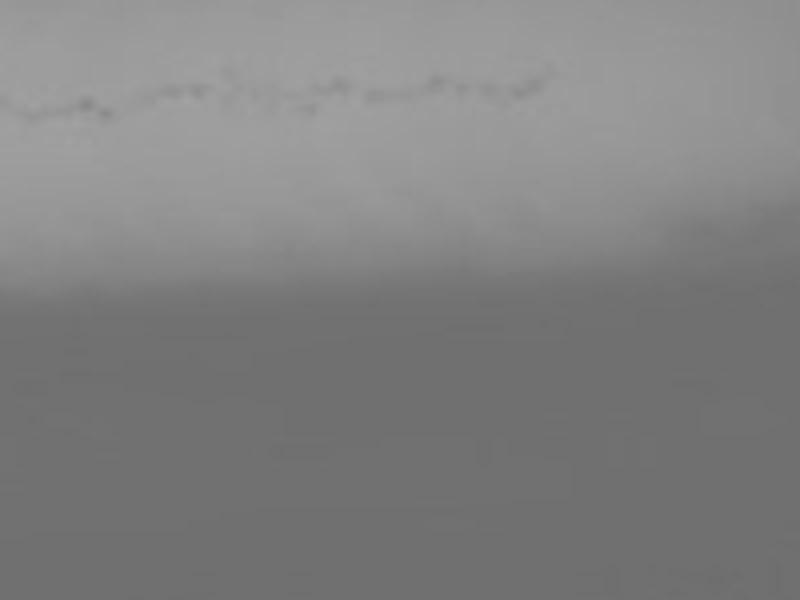defect: (29, 110, 71, 124), (328, 75, 351, 98), (304, 78, 328, 100), (480, 82, 502, 104), (524, 72, 547, 93), (185, 79, 210, 98), (360, 85, 384, 104), (422, 72, 443, 93), (512, 83, 535, 101), (151, 86, 174, 102), (76, 93, 96, 110), (95, 107, 112, 126), (453, 80, 470, 99), (299, 102, 320, 117)
